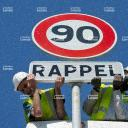speed_limit_90: (30, 12, 119, 62)
